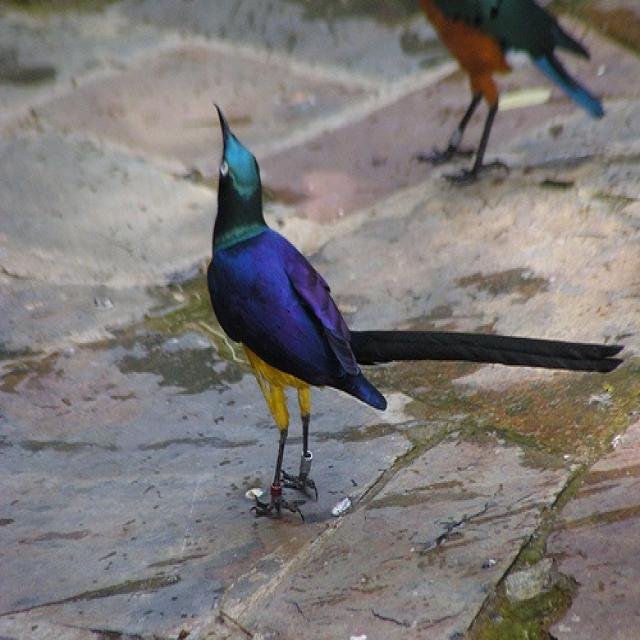bird: (206, 102, 626, 522), (414, 1, 606, 182)
